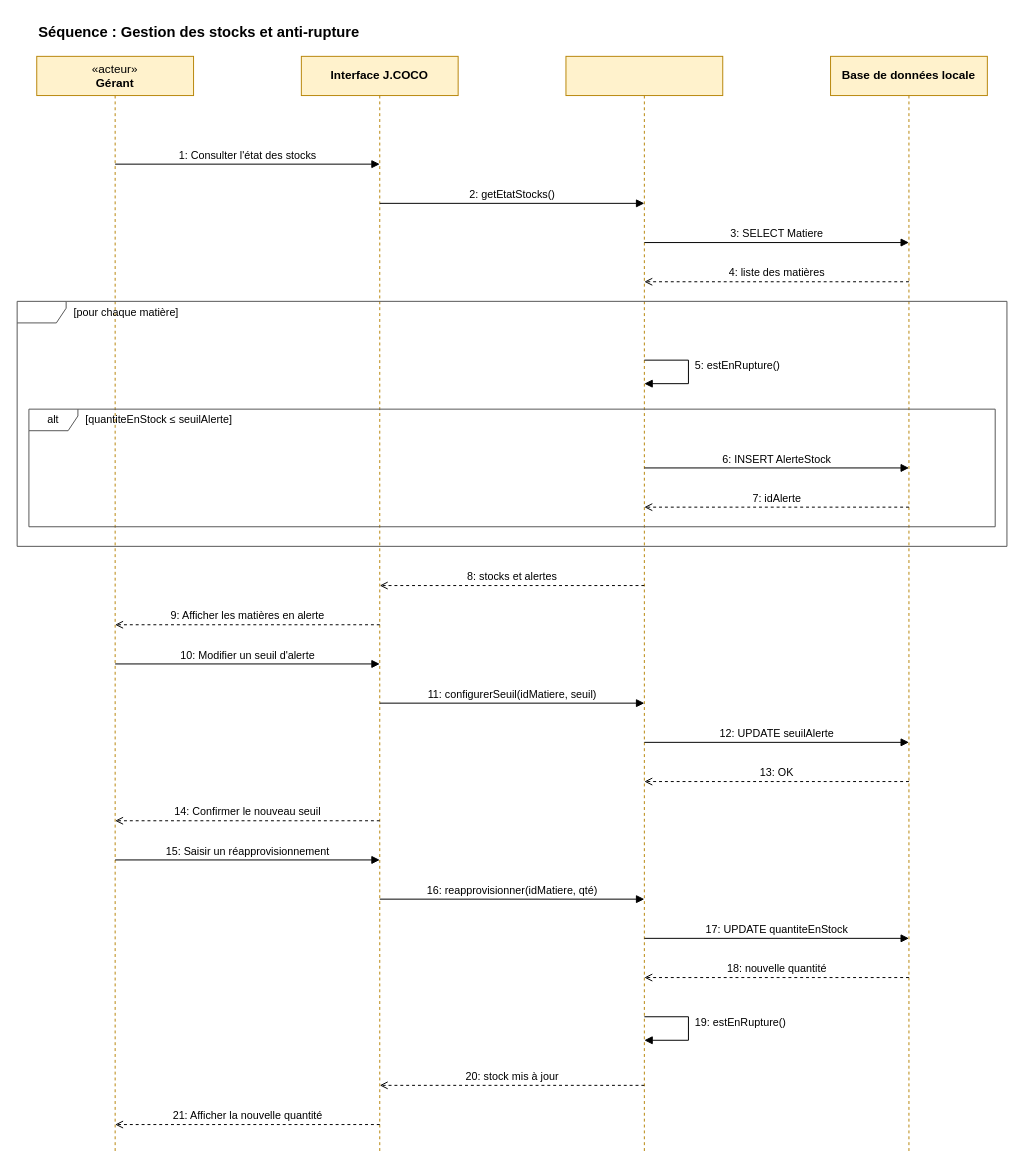
This 1024x1171 diagram has some shape labels left out. Each missing label, with the box of its shape:
loop: (16, 300, 1007, 546)
Service métier: (565, 55, 723, 1154)
